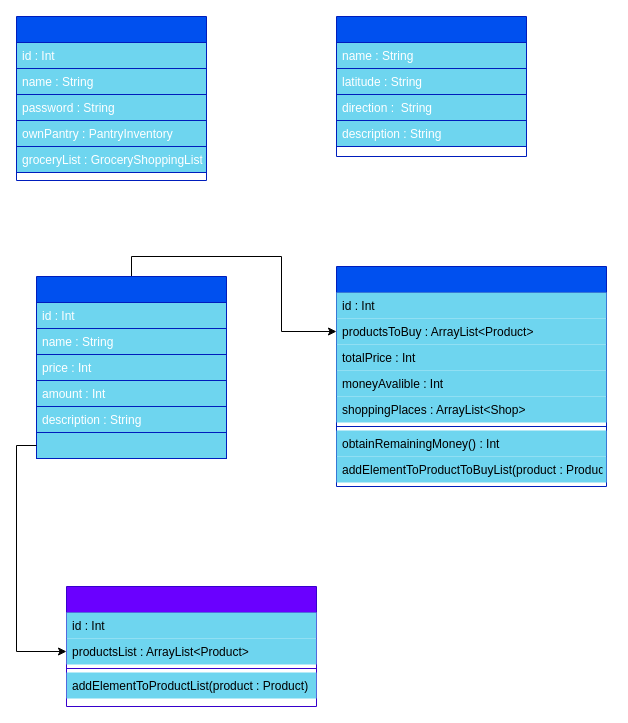
Image size: 628x723. Some labels were removed from this diagram. Each missing label, with the box of its shape:
category : String: (36, 432, 226, 458)
GroceryShopping: (336, 266, 606, 486)
PantryInventory: (66, 586, 316, 706)
Product: (36, 276, 226, 458)
Shop: (336, 16, 526, 156)
User: (16, 16, 206, 180)
